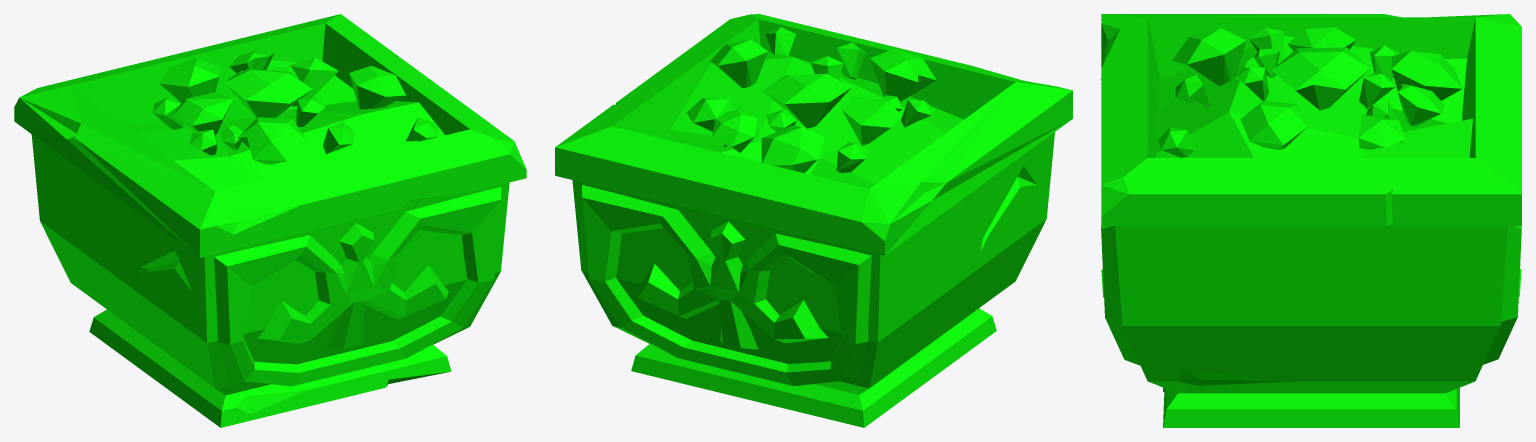
The model's file is SM_Flower_Box_Stone_Square_Street_A_Fantasy.fbx.
3 views of the same model, side by side, from view 1: azimuth 30°, elevation 25°; view 2: azimuth 150°, elevation 25°; view 3: azimuth 270°, elevation 25° (orthographic). The views are drawn at different scales.
Parts seen in each view (by area): view 1: flower-box-stone-square-street-a-fantasy; view 2: flower-box-stone-square-street-a-fantasy; view 3: flower-box-stone-square-street-a-fantasy.
Part boxes in pixels (x1,y1,x2,y2): flower-box-stone-square-street-a-fantasy: [14, 14, 526, 427]; flower-box-stone-square-street-a-fantasy: [555, 14, 1072, 427]; flower-box-stone-square-street-a-fantasy: [1101, 14, 1521, 427].
Size of the model in its own units: 0.5788 by 0.4625 by 0.5706.
